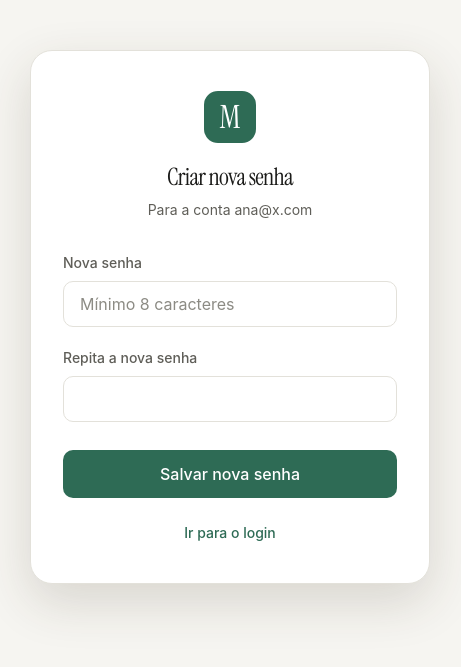
Test case: ResetPasswordPage › não envia quando as senhas não conferem
Expected: the text "Para a conta ana@x.com" is shown, [148, 201, 312, 218]
Type "senha-nova-22" into the password field labelled "Nova senha" at (230, 304), box [63, 281, 397, 327]
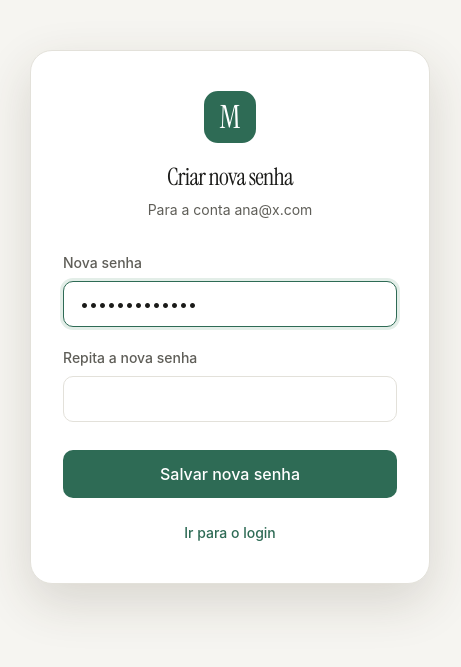
Type "senha-errada-33" into the password field labelled "Repita a nova senha" at (230, 399), box [63, 376, 397, 422]
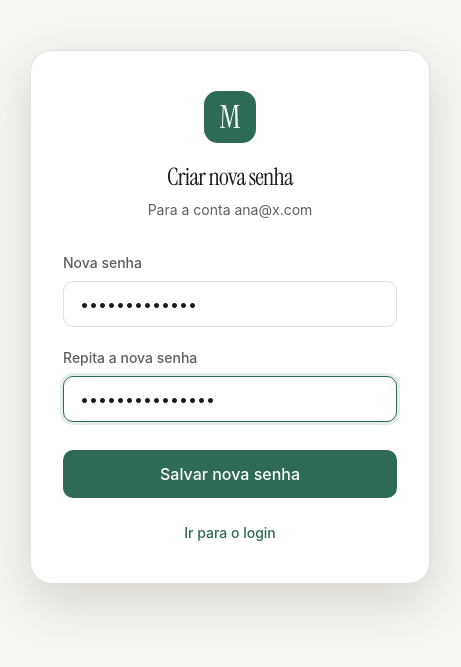
Click the button "Salvar nova senha" at (230, 474), box [63, 450, 397, 498]
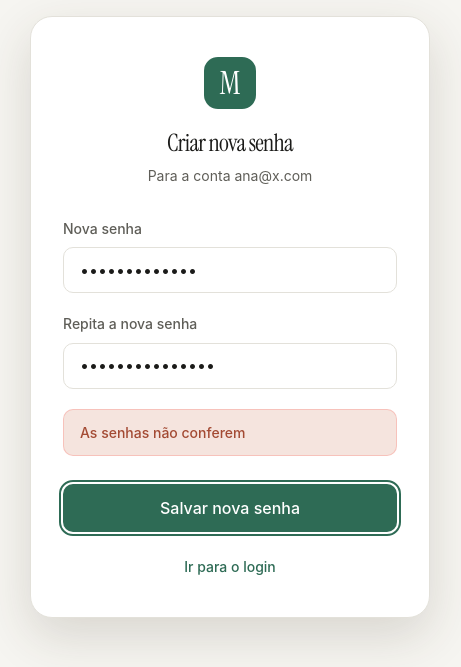
Expected: the message reads "As senhas não conferem", [80, 424, 246, 441]
